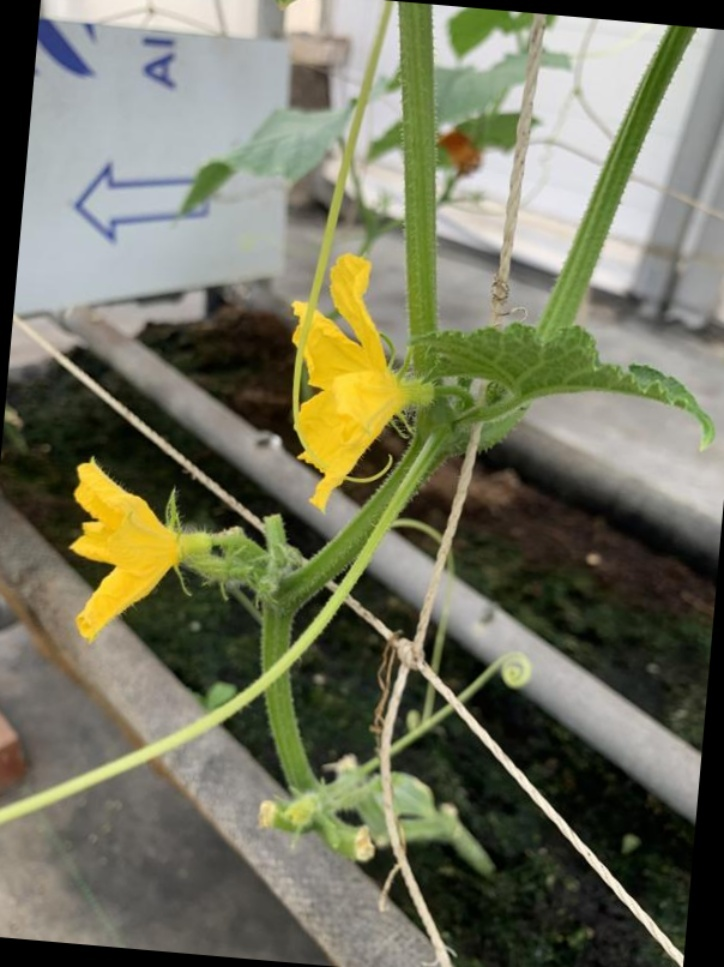flowering: (279, 256, 418, 515), (58, 450, 203, 647)
